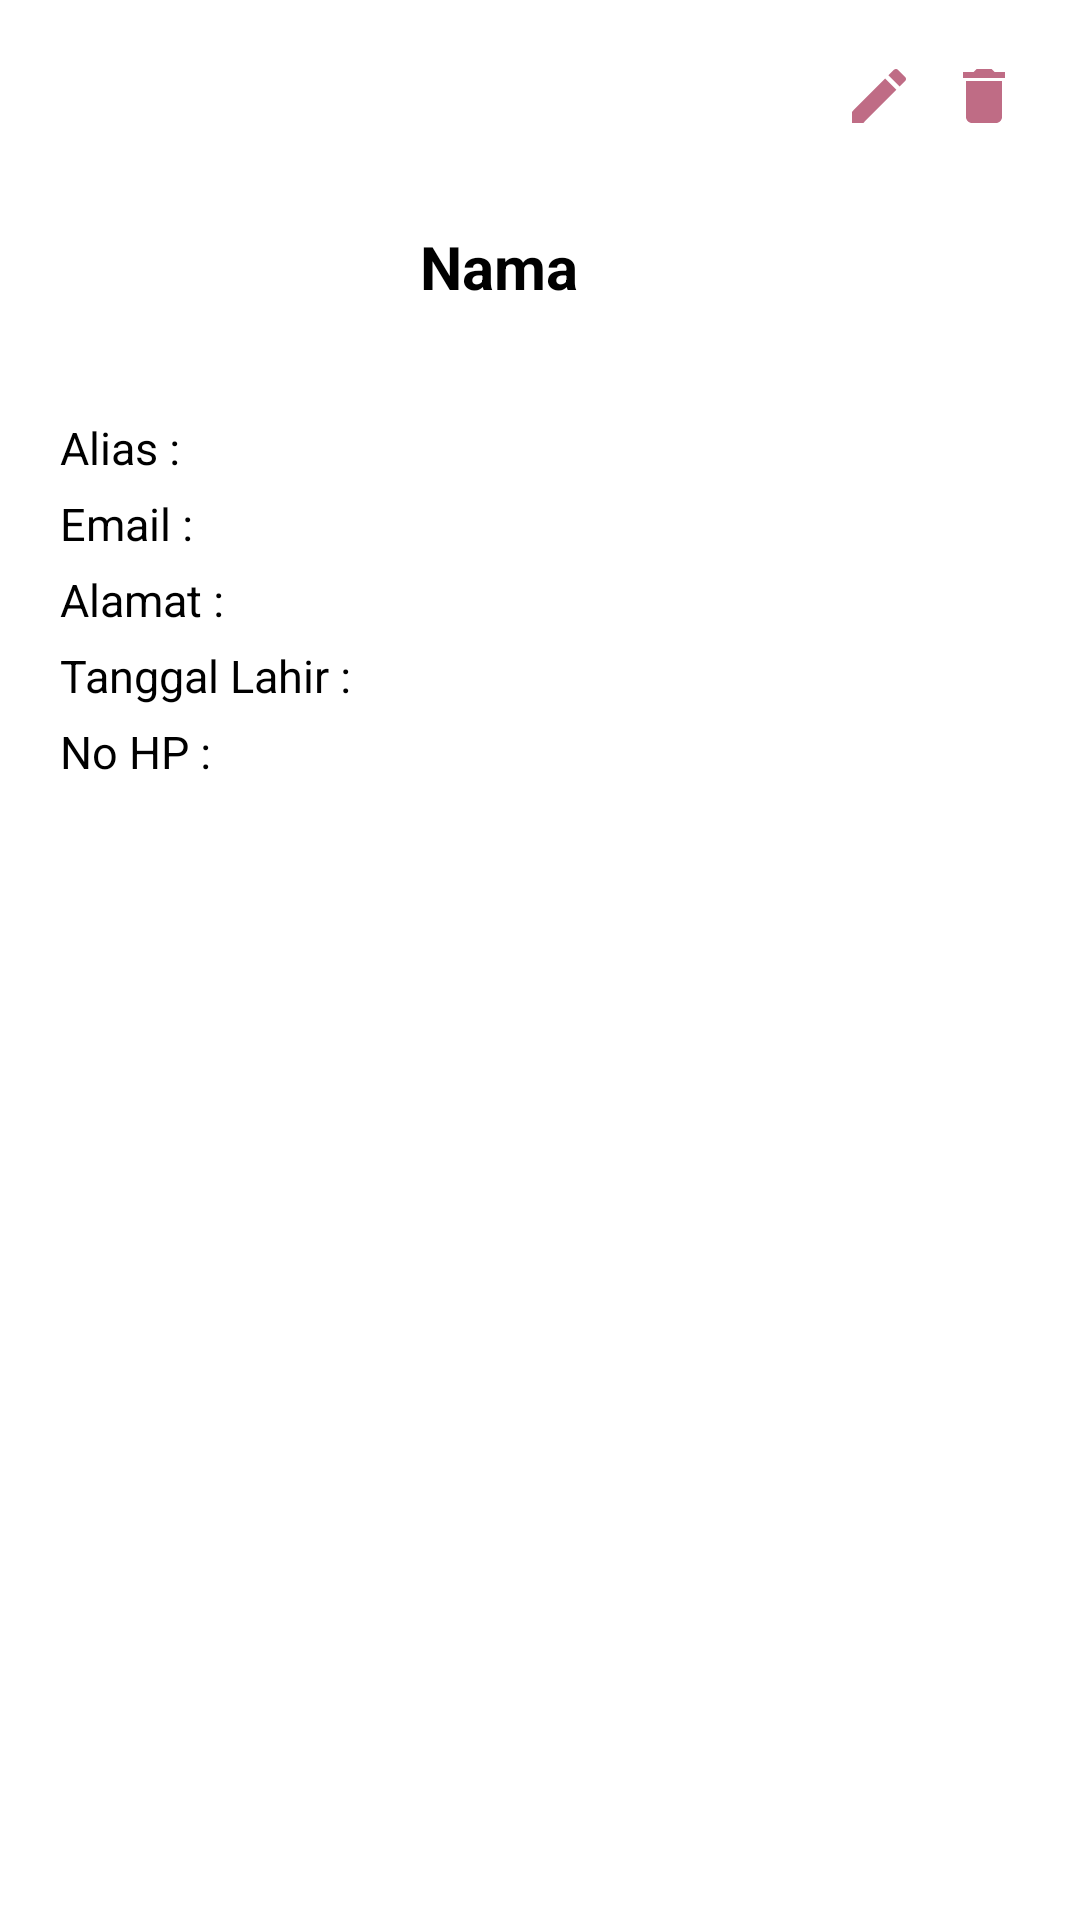

Screen size 1080*1920. Icon name, then its box in pixels as (x1, y1, x2, y2):
delete: (963, 69, 1005, 123)
edit: (852, 69, 906, 123)
